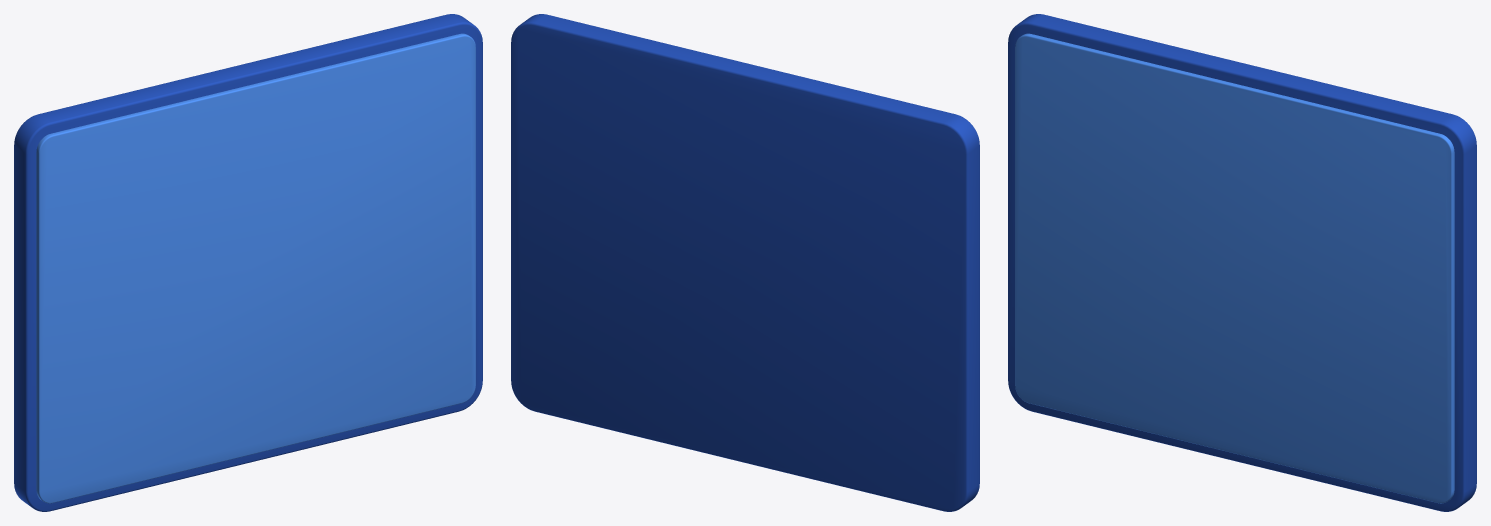
The model's file is panel-grande-azul.glb.
3 renders of one model, left to right at view 1: azimuth 30°, elevation 25°; view 2: azimuth 150°, elevation 25°; view 3: azimuth 330°, elevation 25°, orthographic.
Visible parts, largest first — view 1: placa, borde; view 2: borde; view 3: placa, borde.
Boxes of the visible parts, left/top/right/bottom form: placa: left=36, top=33, right=475, bottom=503; borde: left=14, top=14, right=482, bottom=511; borde: left=511, top=14, right=979, bottom=511; placa: left=1015, top=33, right=1454, bottom=503; borde: left=1008, top=14, right=1476, bottom=511.
Size of the model in its own units: 3.2 by 2.6 by 0.192.
